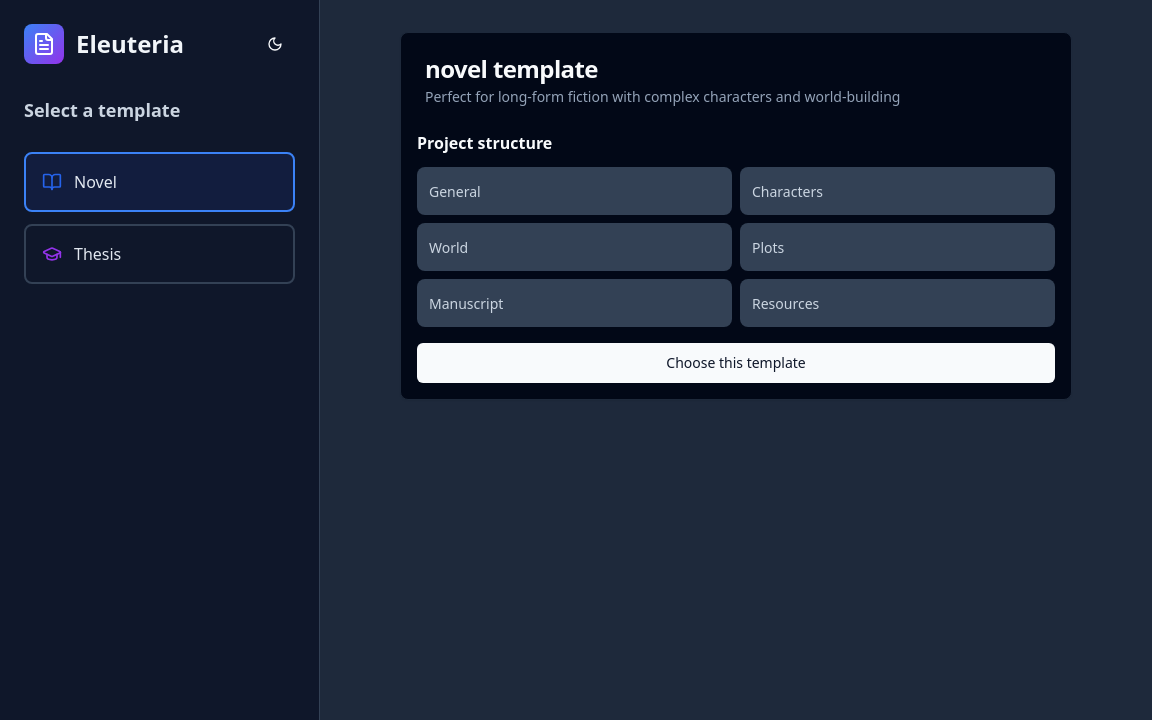
Test: Welcome Page › should change template
Expected: the heading "novel template" is shown, [425,52,598,85]
Click the button with test id "btn-thesis" at x=98, y=254, box [24,224,295,284]
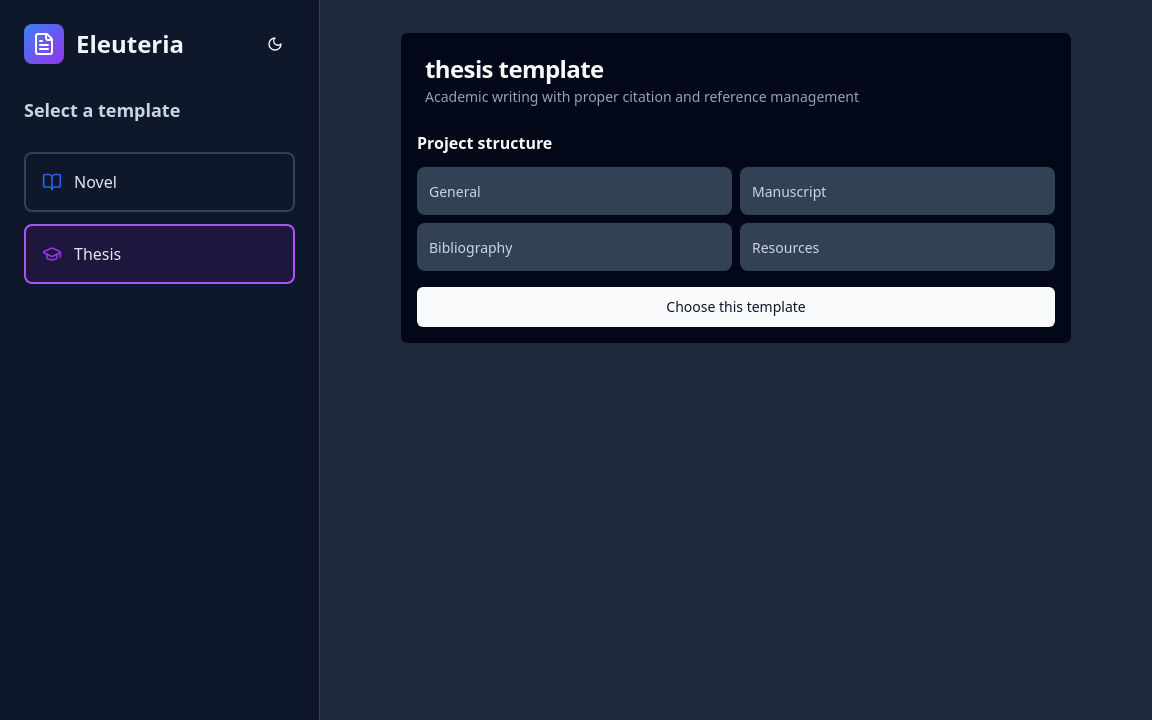
Expected: the heading "thesis template" is shown, [425,52,604,85]
Expected: the heading "novel template" is gone
